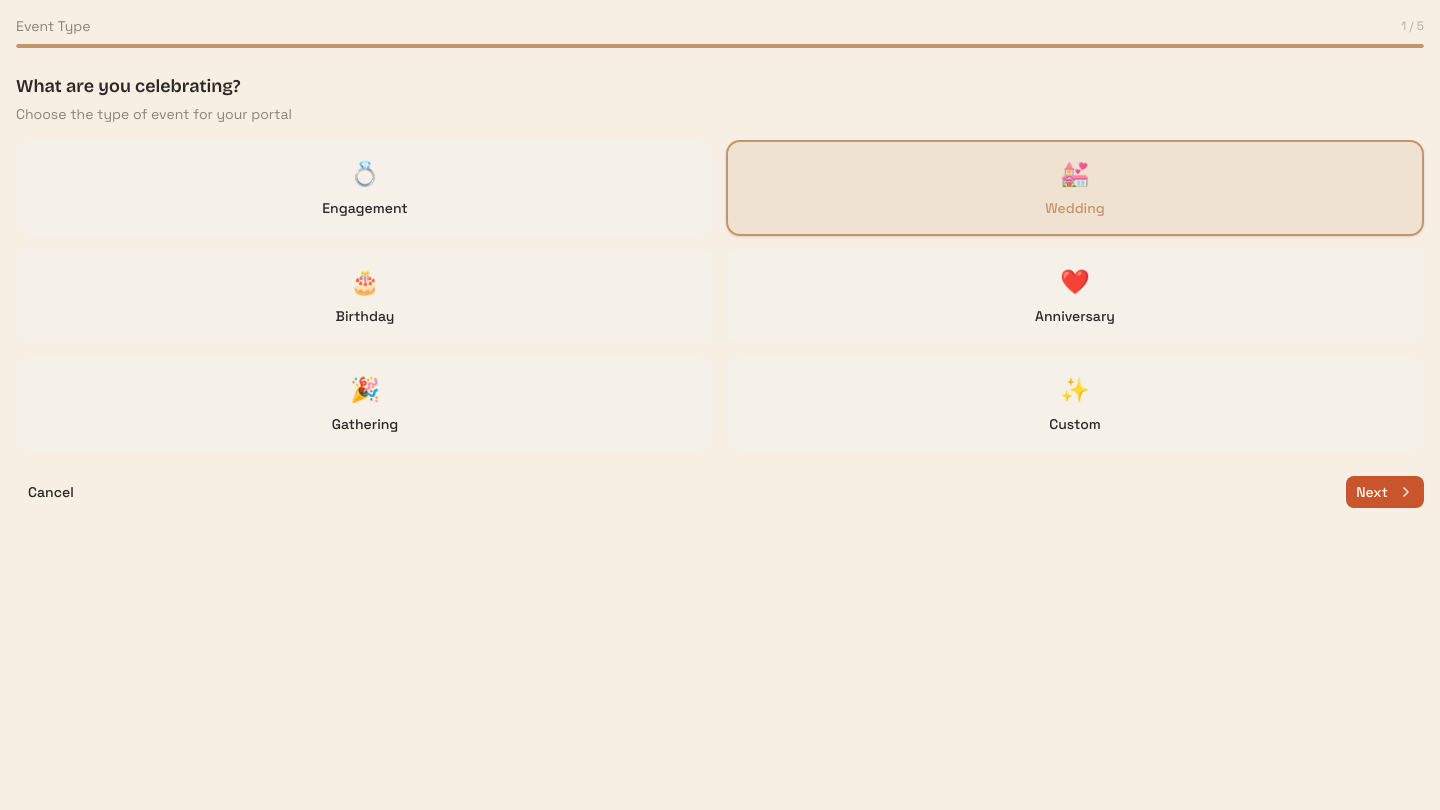
Scenario: PortalCreationWizard › navigates to step 3 (Theme) from step 2
The image size is (1440, 810).
Note: Step 1 → 2
Click the button "Next". click: (1385, 492)
box: [1346,476,1424,508]
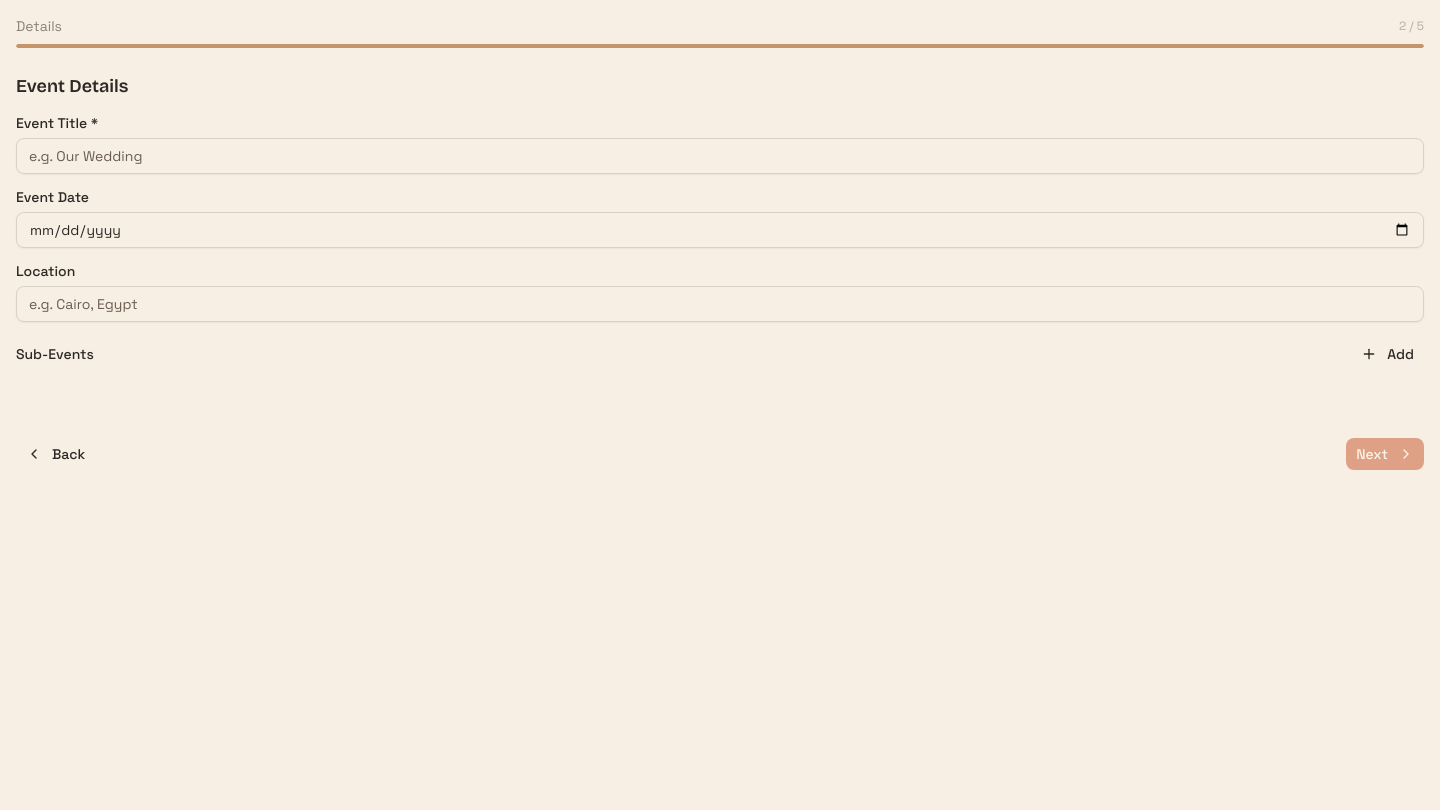
Note: Fill title
Type "My Event" into the field with test id "portal-title-input". click: (720, 156)
box: [16,138,1424,174]
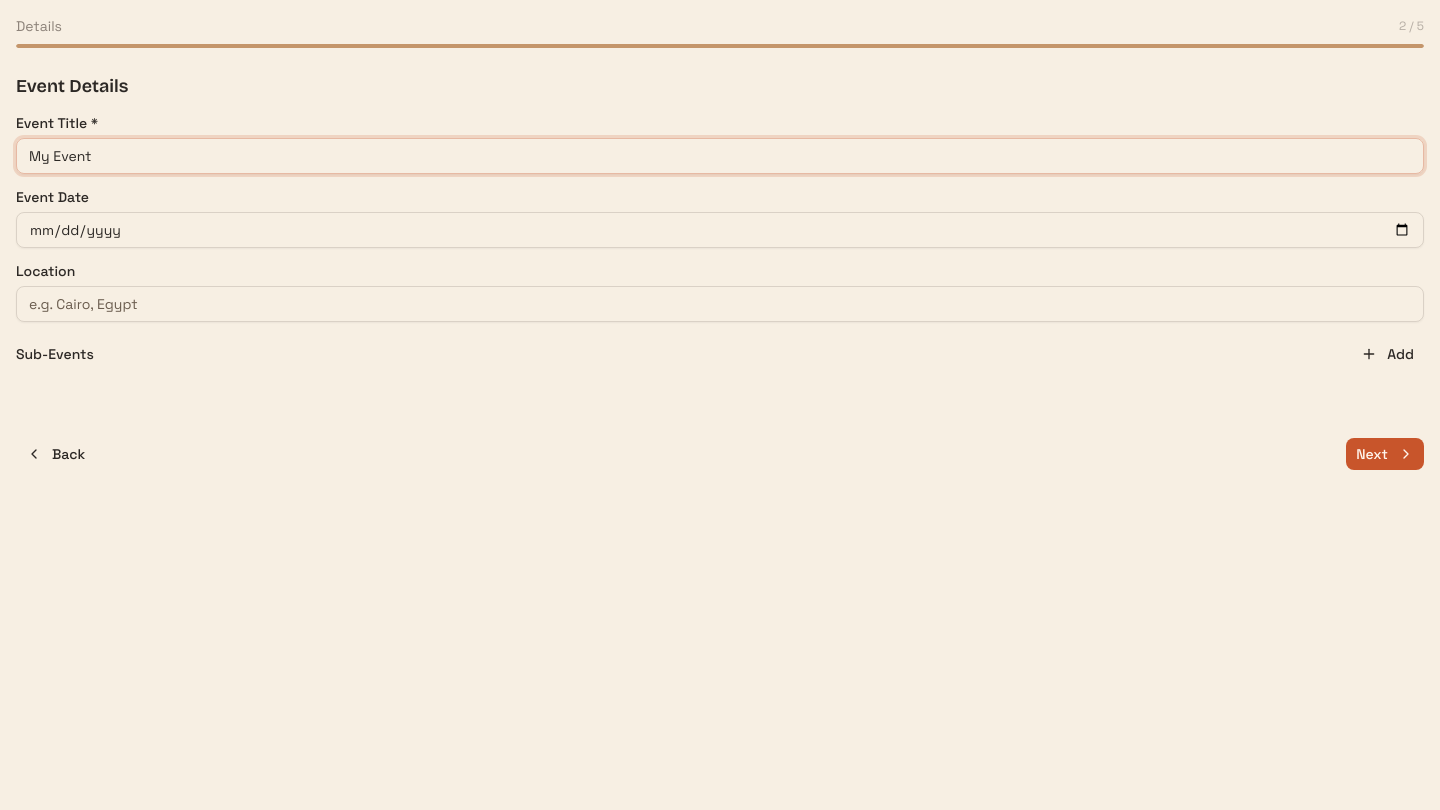
Note: Step 2 → 3
Click the button "Next". click: (1385, 454)
box: [1346,438,1424,470]
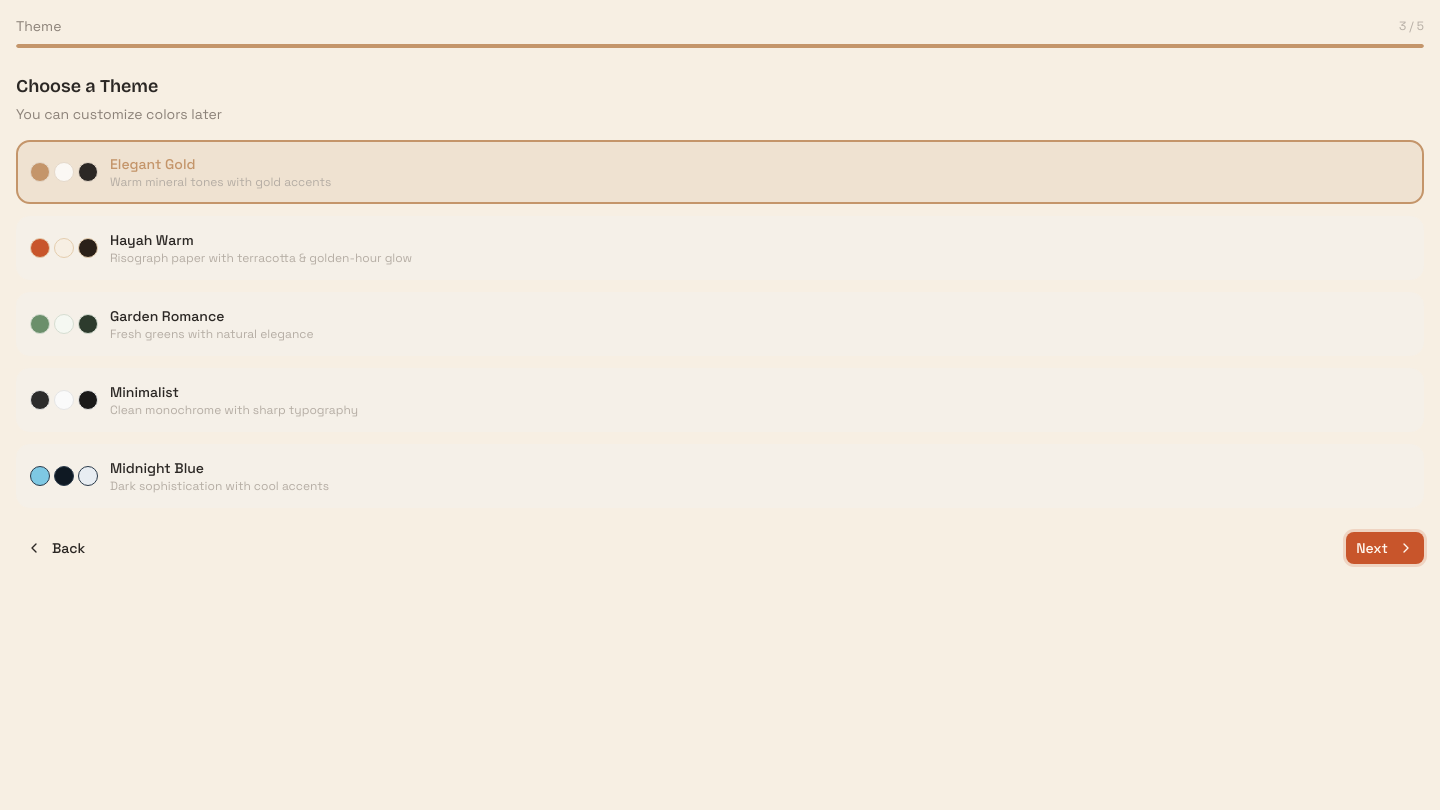
Expected: the heading "Choose a Theme" is shown, [16,75,158,97]
Expected: the text "3 / 5" is shown, [1399,18,1424,34]
